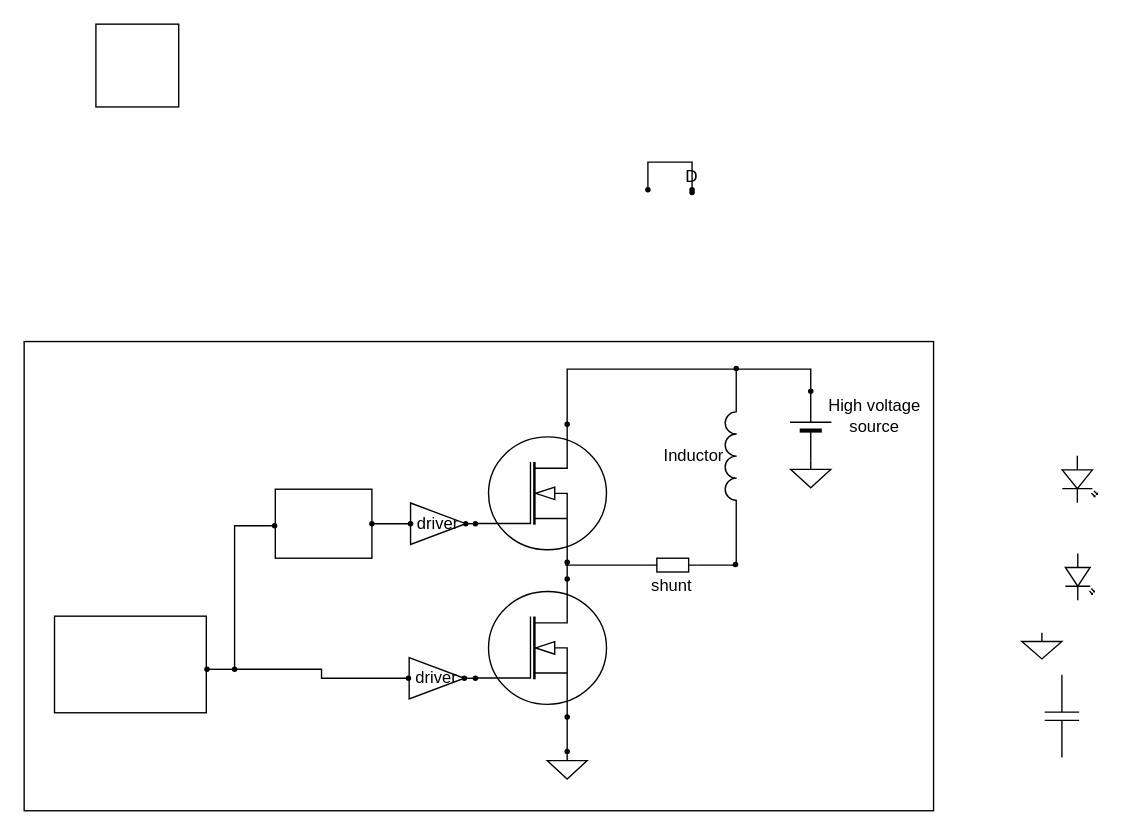
Some shapes in this 1122 by 835 pixel diagram are drawn without their labels. The centre of each missing label's shape, as x and y in pixels:
Non overlapping PWM: point (129, 664)
VDDTECH IZL100: point (323, 523)
